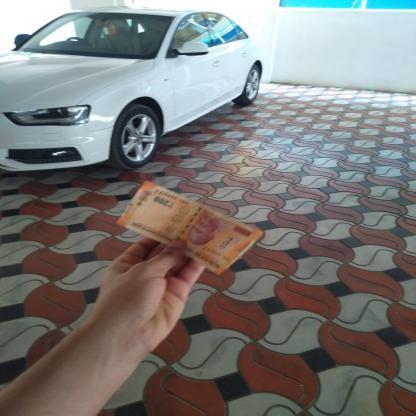New200Front: (125, 188, 251, 260)
